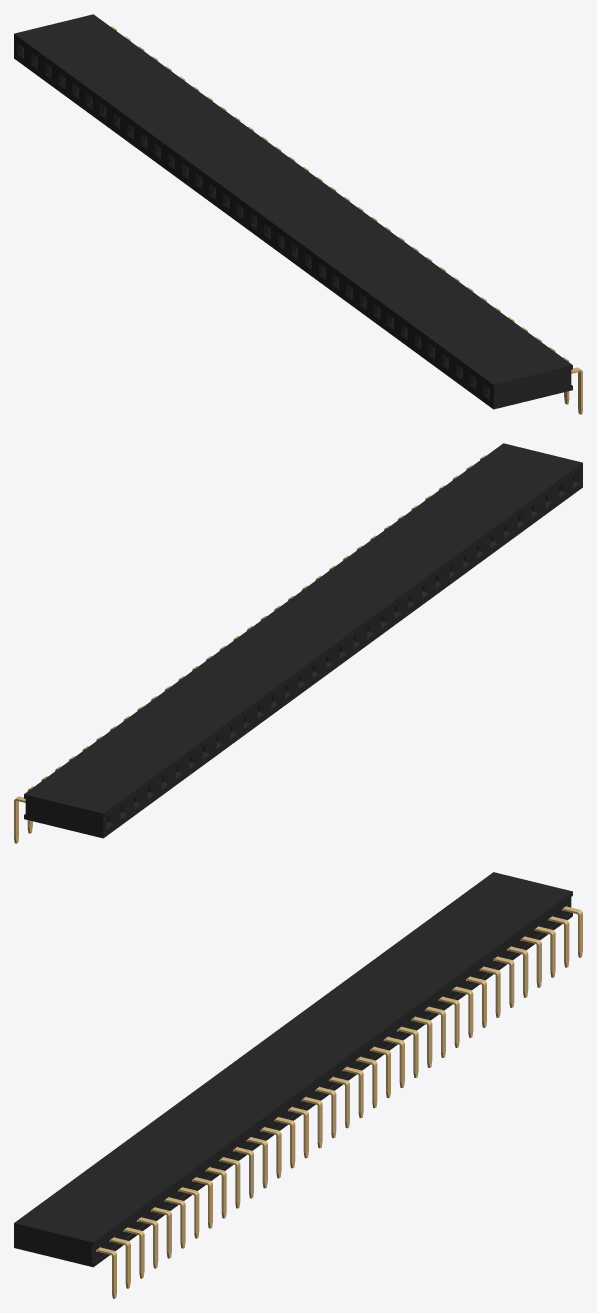
The model's file is kc-pinsocket_1x35_p2.54mm_horizontal.glb.
The picture shows the model from 3 angles, top to bottom: view 1: azimuth 30°, elevation 25°; view 2: azimuth 150°, elevation 25°; view 3: azimuth 330°, elevation 25°; orthographic projection.
Visible parts, largest first — view 1: 0_0_0_0, 0.75_0.5_0.25_0.9; view 2: 0_0_0_0, 0.75_0.5_0.25_0.9; view 3: 0_0_0_0, 0.75_0.5_0.25_0.9.
Part boxes in pixels (x1=…): 0_0_0_0: x1=14, y1=14, x2=572, y2=409; 0.75_0.5_0.25_0.9: x1=111, y1=26, x2=582, y2=414; 0_0_0_0: x1=24, y1=443, x2=582, y2=838; 0.75_0.5_0.25_0.9: x1=14, y1=455, x2=485, y2=843; 0_0_0_0: x1=14, y1=872, x2=572, y2=1267; 0.75_0.5_0.25_0.9: x1=96, y1=906, x2=582, y2=1298.
Bounding box in the file's own units: 1.01 × 0.5838 × 8.89.
